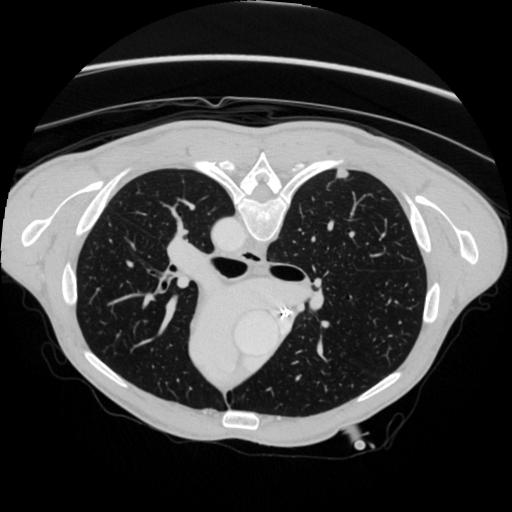nodule: (335, 167, 352, 184)
